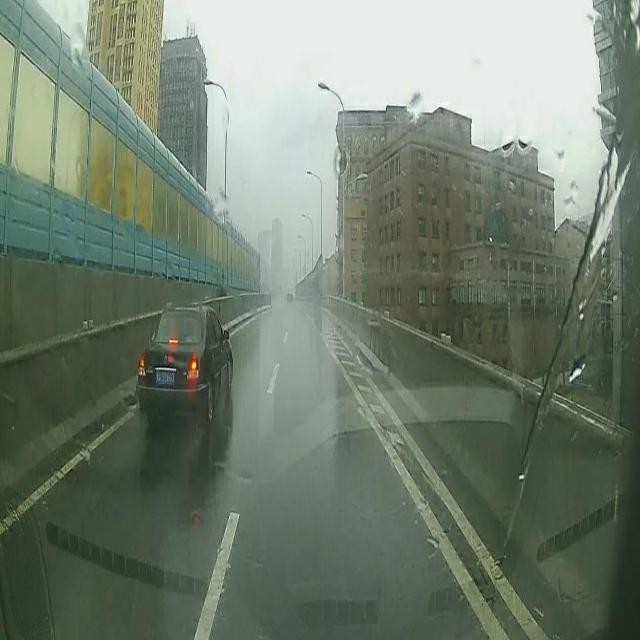car: (139, 308, 233, 414), (286, 292, 294, 302)
